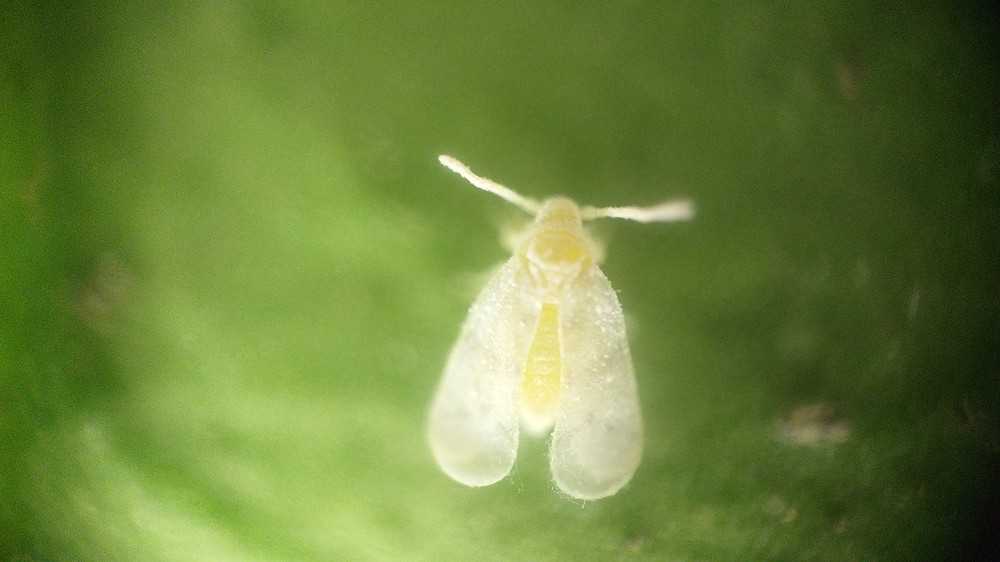Mosca Blanca: (379, 144, 719, 523)
